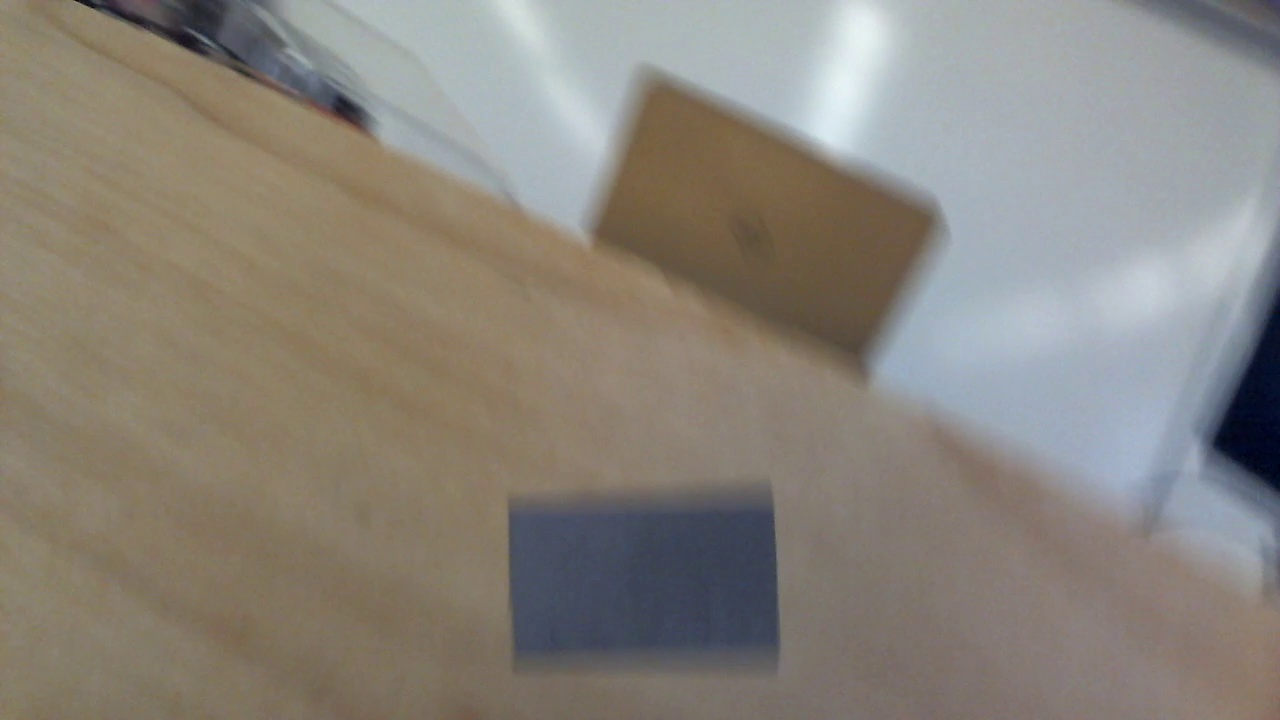Tape: (507, 479, 784, 670)
